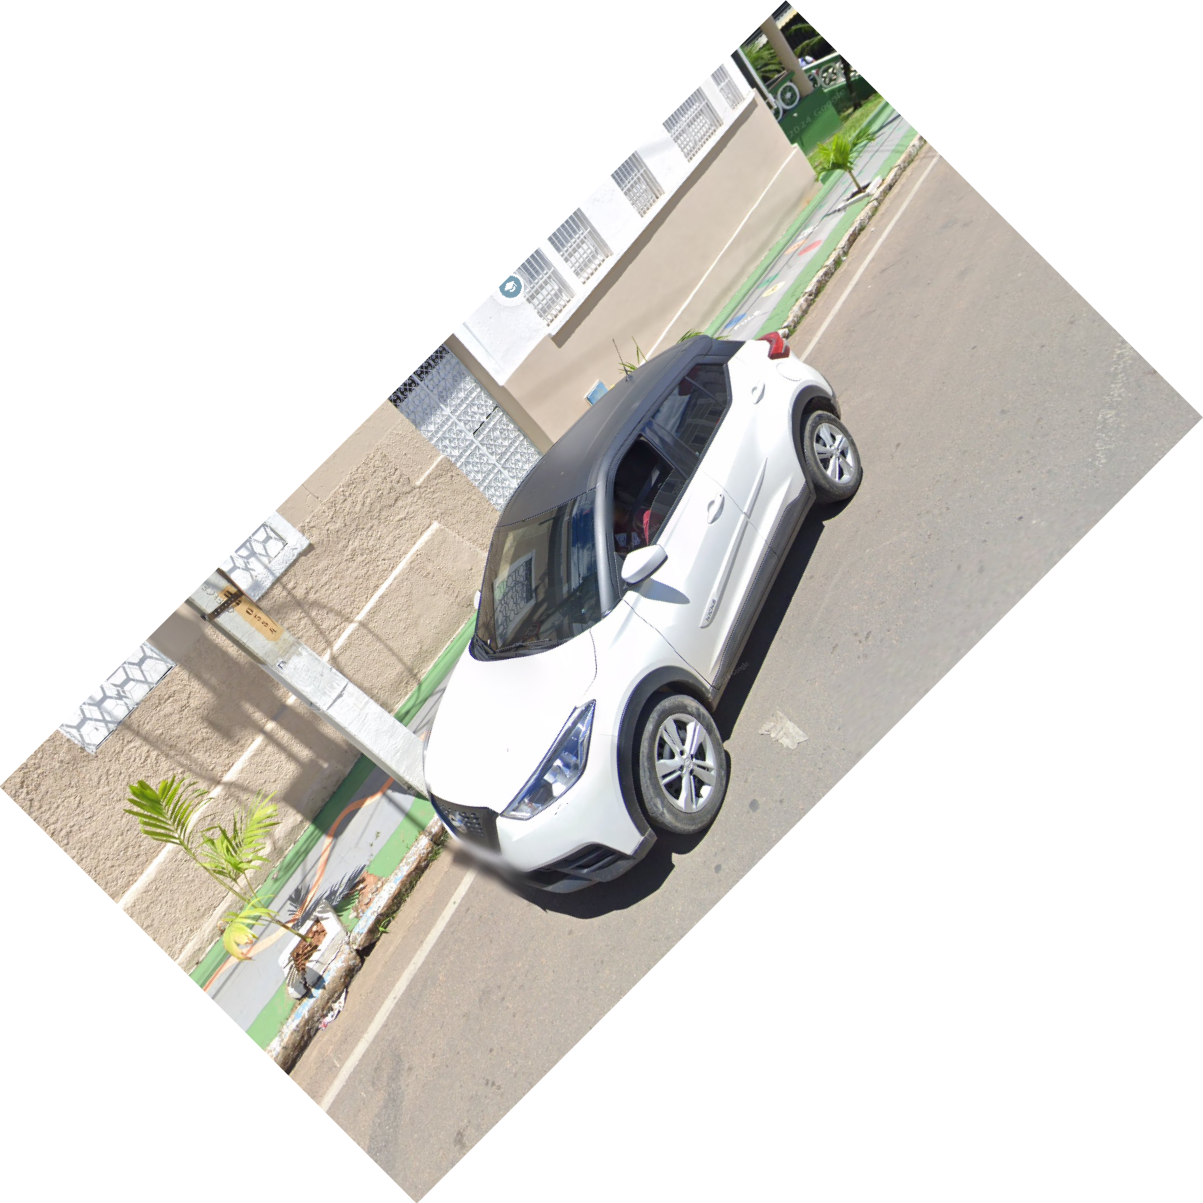car: (408, 325, 904, 913)
